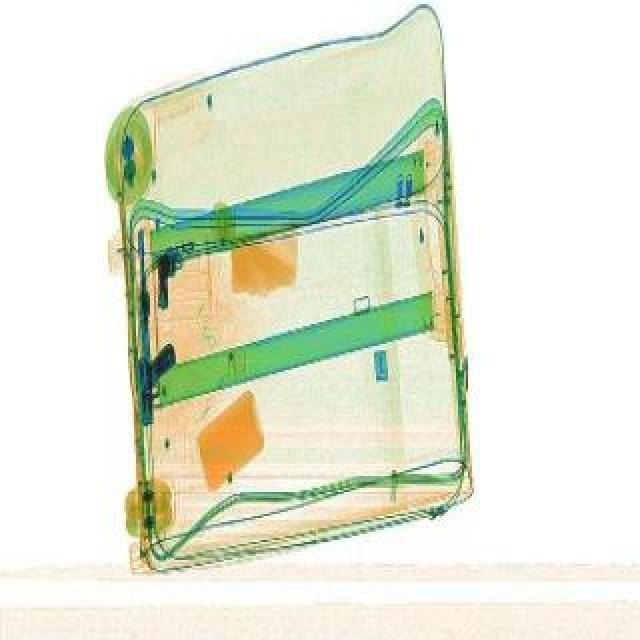gun: (128, 220, 158, 360), (130, 342, 174, 426), (150, 240, 194, 308)
